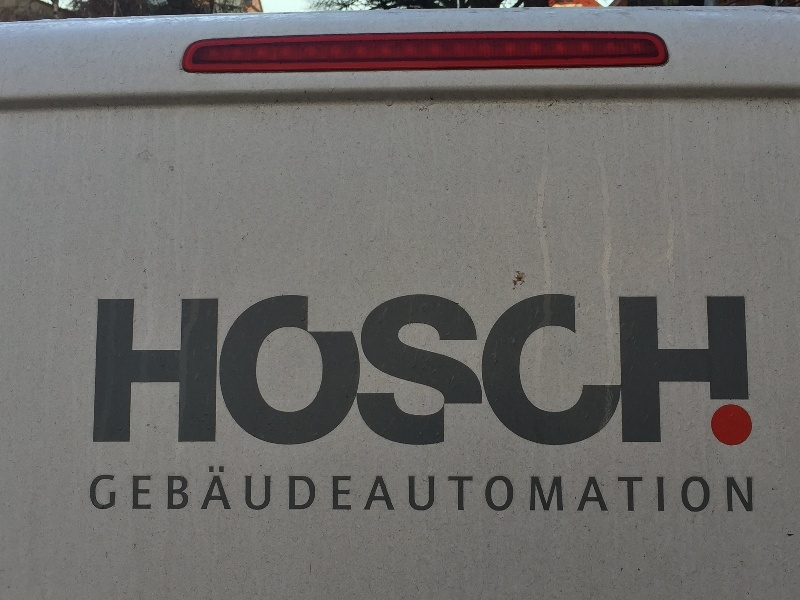text: (97, 293, 112, 451), (113, 293, 128, 451), (129, 293, 144, 451), (145, 293, 160, 451), (161, 293, 176, 451), (177, 293, 192, 451), (193, 293, 208, 451), (209, 293, 224, 451), (225, 293, 240, 451), (241, 293, 256, 451), (257, 293, 272, 451), (273, 293, 288, 451), (289, 293, 304, 451), (305, 293, 320, 451), (321, 293, 336, 451), (337, 293, 352, 451), (353, 293, 368, 451), (369, 293, 384, 451), (385, 293, 400, 451), (401, 293, 416, 451), (417, 293, 432, 451), (433, 293, 448, 451), (449, 293, 464, 451), (465, 293, 480, 451), (481, 293, 496, 451), (497, 293, 512, 451), (513, 293, 528, 451), (529, 293, 544, 451), (545, 293, 560, 451), (561, 293, 576, 451), (577, 293, 592, 451), (593, 293, 608, 451), (609, 293, 624, 451), (625, 293, 640, 451), (641, 293, 656, 451), (657, 293, 672, 451), (673, 293, 688, 451), (689, 293, 704, 451), (705, 293, 720, 451), (721, 293, 736, 451), (737, 293, 752, 451), (97, 465, 112, 514), (113, 465, 128, 514), (129, 465, 144, 514), (145, 465, 160, 514), (161, 465, 176, 514), (177, 465, 192, 514), (193, 465, 208, 514), (209, 465, 224, 514), (225, 465, 240, 514), (241, 465, 256, 514), (257, 465, 272, 514), (273, 465, 288, 514), (289, 465, 304, 514), (305, 465, 320, 514), (321, 465, 336, 514), (337, 465, 352, 514), (353, 465, 368, 514), (369, 465, 384, 514), (385, 465, 400, 514), (401, 465, 416, 514), (417, 465, 432, 514), (433, 465, 448, 514), (449, 465, 464, 514), (465, 465, 480, 514), (481, 465, 496, 514), (497, 465, 512, 514), (513, 465, 528, 514), (529, 465, 544, 514), (545, 465, 560, 514), (561, 465, 576, 514), (577, 465, 592, 514), (593, 465, 608, 514), (609, 465, 624, 514), (625, 465, 640, 514), (641, 465, 656, 514), (657, 465, 672, 514), (673, 465, 688, 514), (689, 465, 704, 514), (705, 465, 720, 514), (721, 465, 736, 514), (737, 465, 752, 514), (753, 293, 756, 451), (89, 465, 96, 514), (753, 465, 756, 514)
